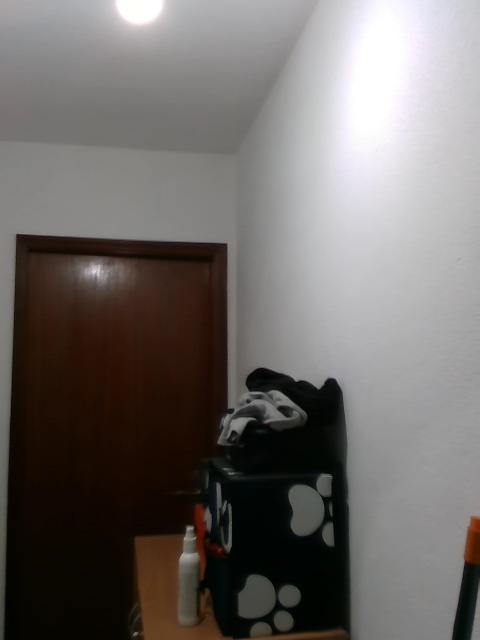closed_door: (3, 233, 228, 639)
